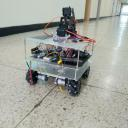cart: (24, 38, 94, 96)
